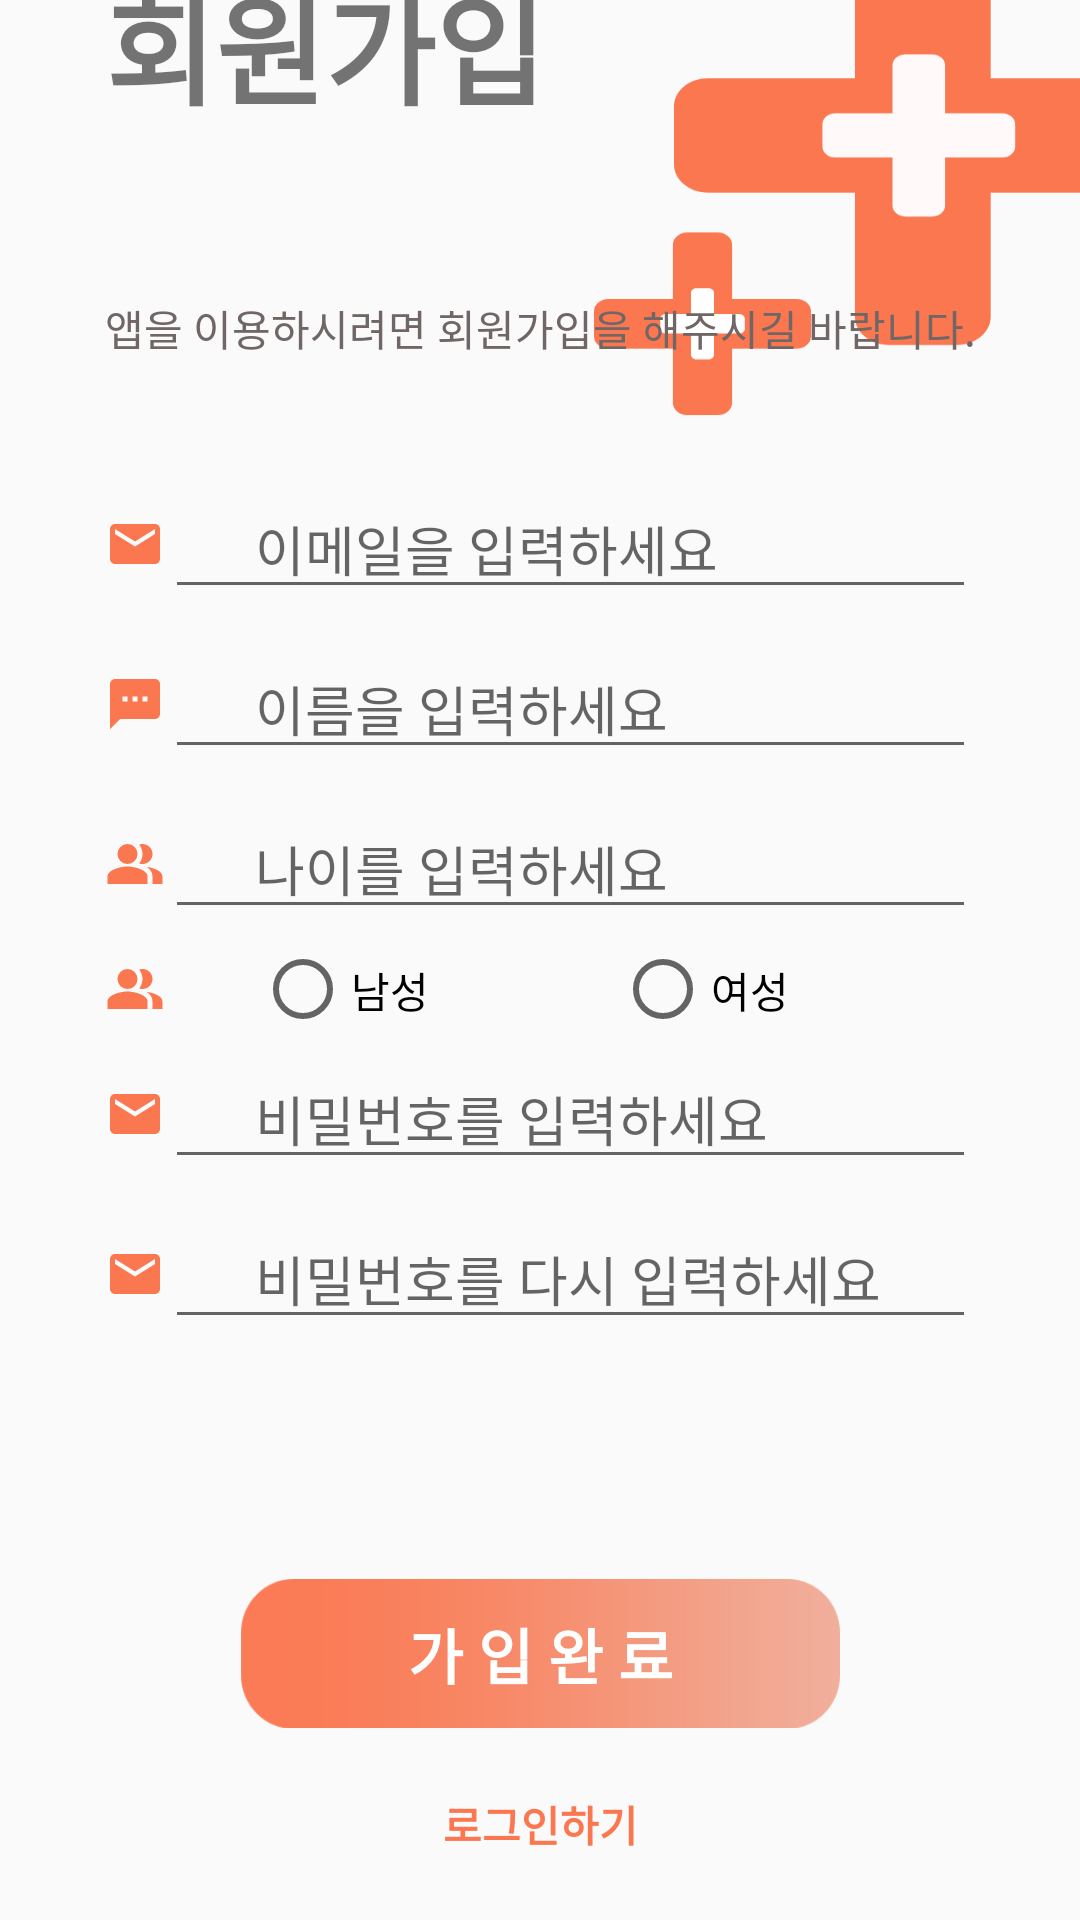

Icons on this 1080*1920 Android screen, each with its box as (x1, y1, x2, y2):
email: (110, 524, 160, 564), (110, 1094, 160, 1134), (110, 1254, 160, 1294)
